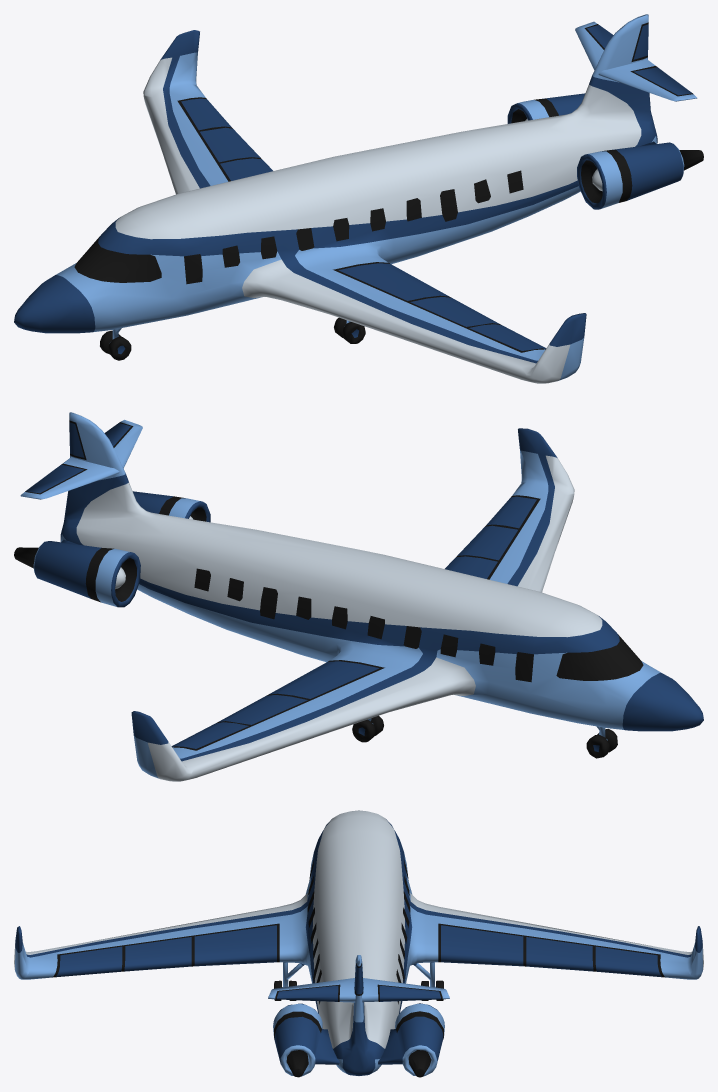
File: avion3_bs.glb
3 views of the same model, one above another, from view 1: azimuth 30°, elevation 25°; view 2: azimuth 150°, elevation 25°; view 3: azimuth 270°, elevation 25° (orthographic). The views are drawn at different scales.
Parts seen in each view (by area): view 1: 18.3.Airplane_AIRPORT_0; view 2: 18.3.Airplane_AIRPORT_0; view 3: 18.3.Airplane_AIRPORT_0.
Boxes of the visible parts, x1=… form: 18.3.Airplane_AIRPORT_0: x1=14, y1=14, x2=703, y2=383; 18.3.Airplane_AIRPORT_0: x1=14, y1=412, x2=703, y2=781; 18.3.Airplane_AIRPORT_0: x1=14, y1=810, x2=703, y2=1077.
Bounding box in the file's own units: 55.8 × 17.32 × 58.31.
1 material, 1 textured.
